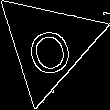O_N: (21, 13, 76, 76)
